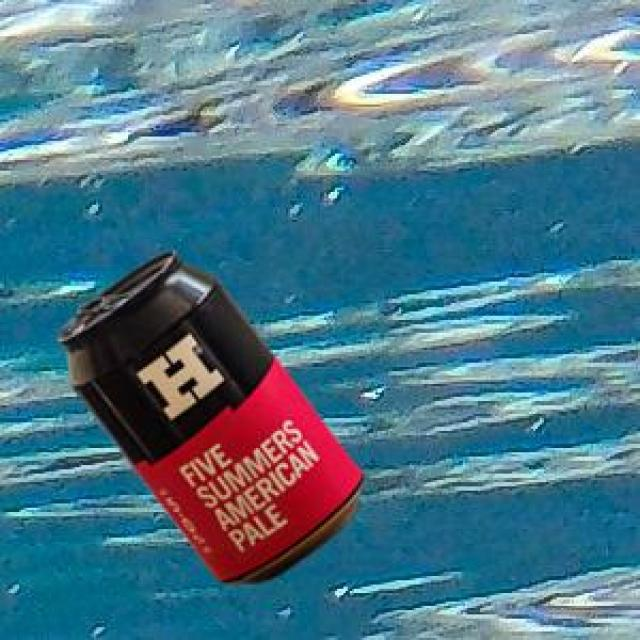logam: (54, 249, 359, 581)
